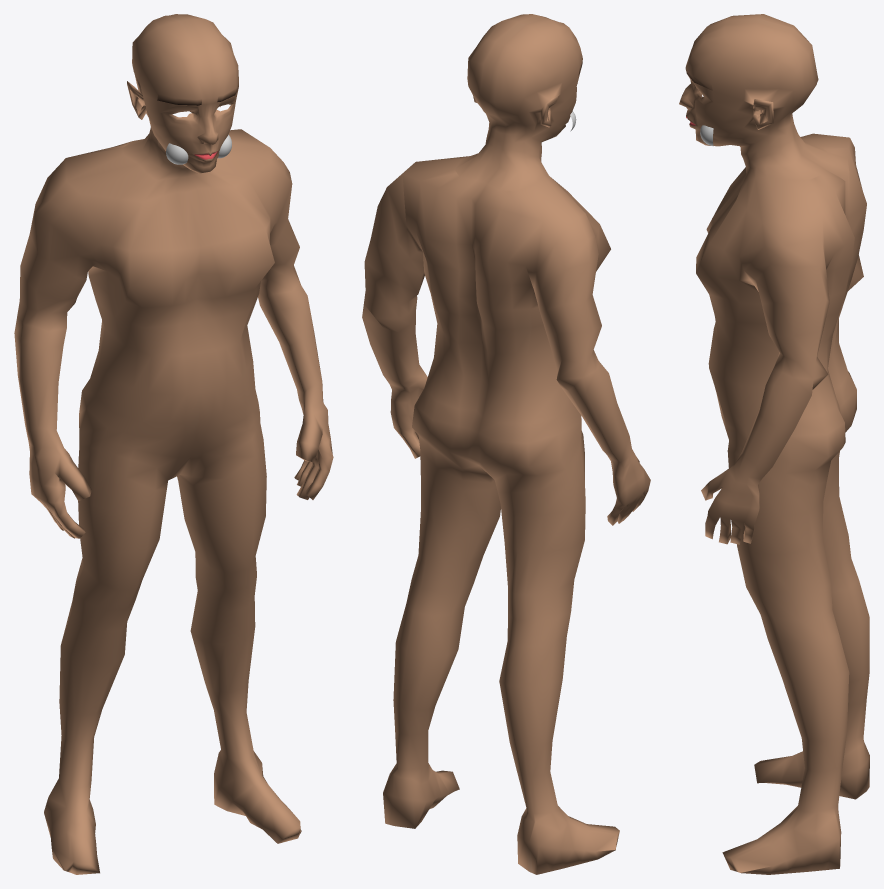
Rendered from boneco14.glb.
3 renders of one model, left to right at view 1: azimuth 30°, elevation 25°; view 2: azimuth 150°, elevation 25°; view 3: azimuth 270°, elevation 25°, orthographic. The views are drawn at different scales.
Visible parts, largest first — view 1: Plane.017; view 2: Plane.017; view 3: Plane.017.
Boxes of the visible parts, bbox=[...] form: Plane.017: bbox=[14, 14, 333, 874]; Plane.017: bbox=[362, 14, 650, 874]; Plane.017: bbox=[679, 14, 869, 874].
Size of the model in its own units: 1.2 by 3.47 by 0.7486.
